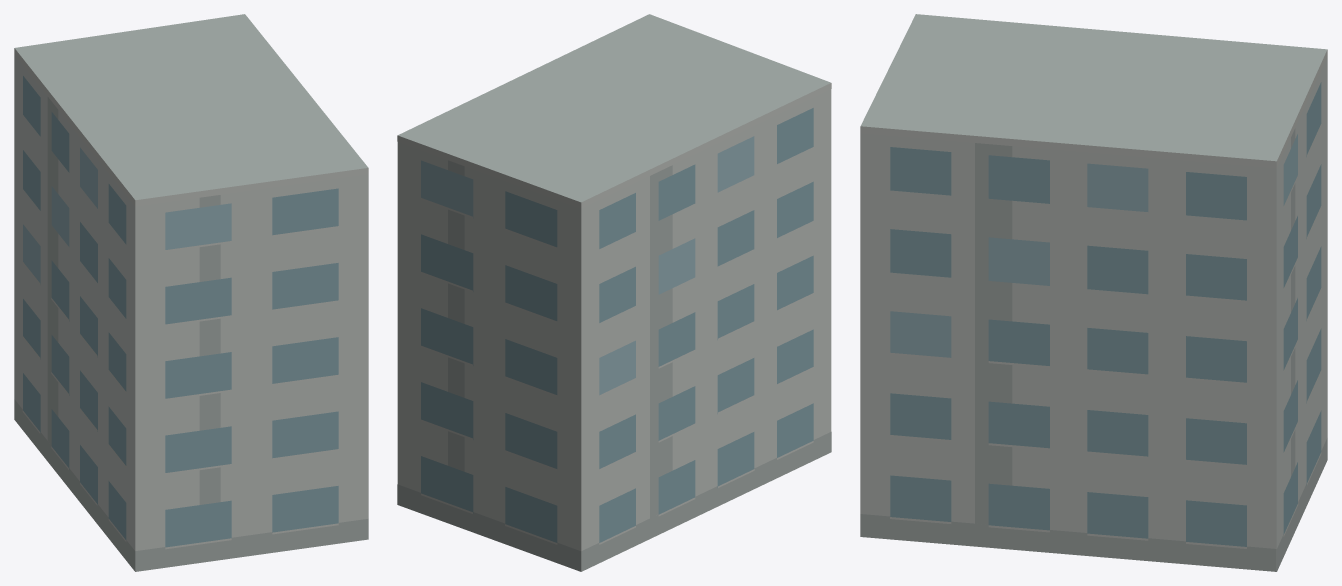
Rendered from survey-upis-32985129.glb.
3 views of the same model, side by side, from view 1: azimuth 30°, elevation 25°; view 2: azimuth 150°, elevation 25°; view 3: azimuth 270°, elevation 25° (orthographic). The views are drawn at different scales.
Visible parts, largest first — view 1: survey-upis-32985129.tmp; view 2: survey-upis-32985129.tmp; view 3: survey-upis-32985129.tmp.
Boxes of the visible parts, x1,y1,x2,y2 form: survey-upis-32985129.tmp: (14,14,368,571); survey-upis-32985129.tmp: (397,14,831,571); survey-upis-32985129.tmp: (860,14,1327,571).
Bounding box in the file's own units: 10.85 × 14.1 × 14.55.
